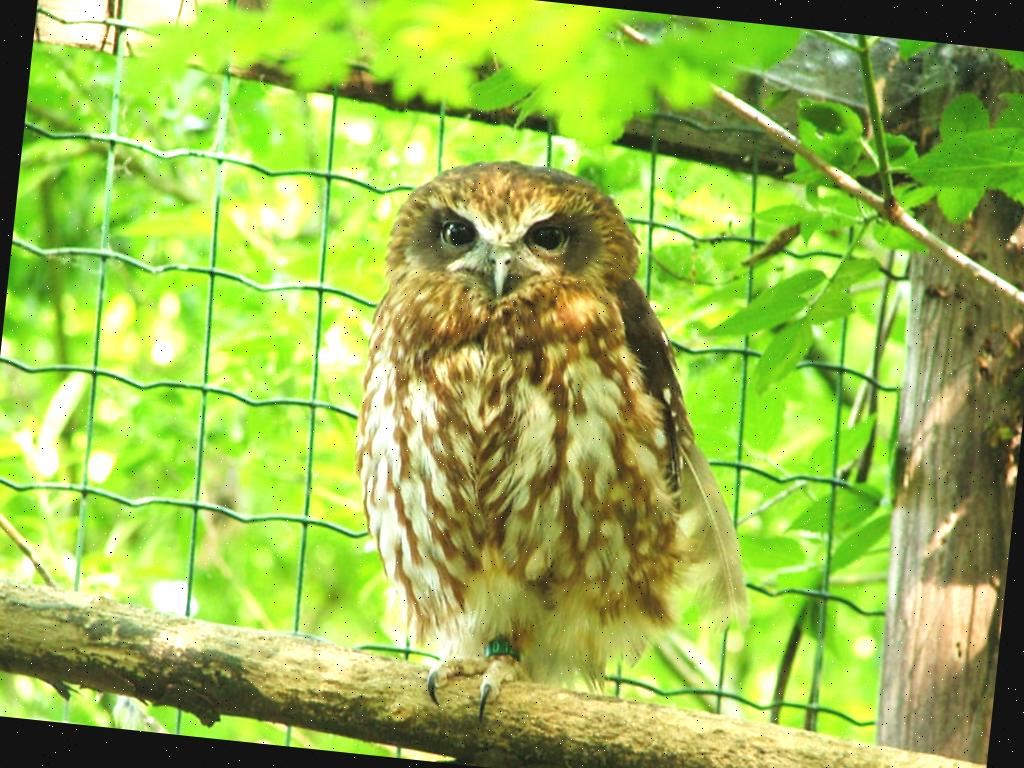Owl: (328, 144, 796, 754)
